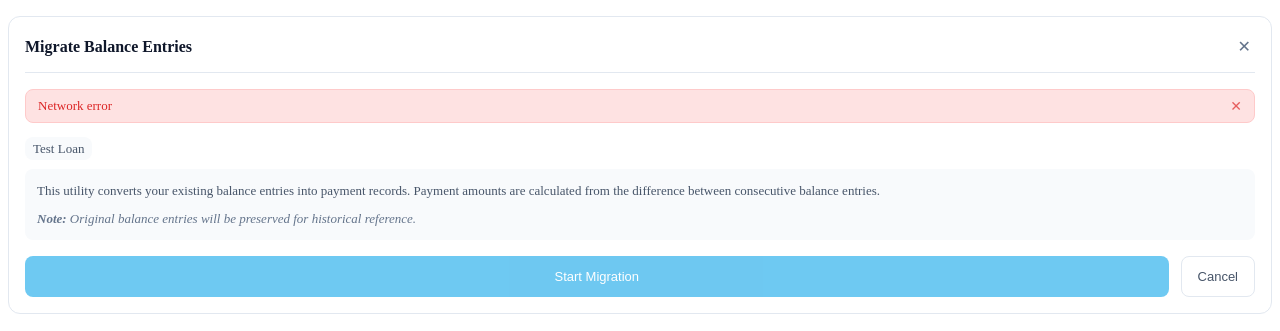
Test case: MigrationUtility › should allow clearing error message
Check: the text "Network error" is shown, box [38, 98, 112, 113]
Note: Find and click the error close button
Click the button "✕" in the row of "Network error". click: (1236, 106)
box: [1230, 99, 1242, 113]
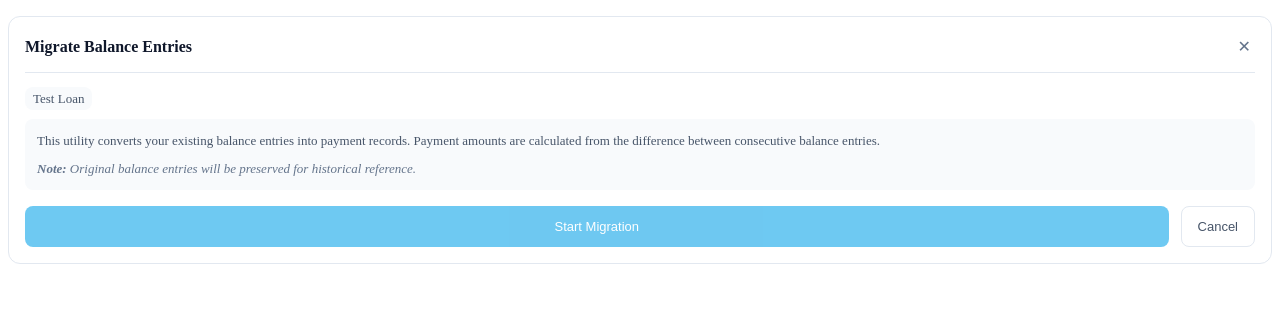
Check: the text "Network error" is gone
